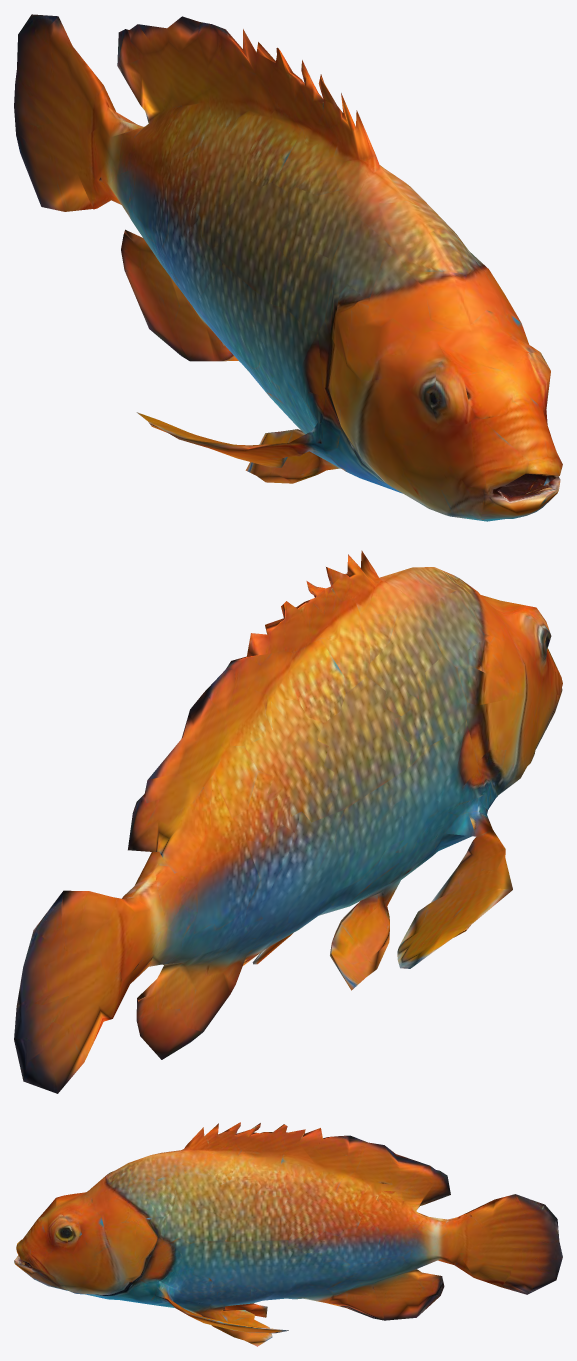
Rendered from fish_orange.glb.
3 views of the same model, one above another, from view 1: azimuth 30°, elevation 25°; view 2: azimuth 150°, elevation 25°; view 3: azimuth 270°, elevation 25° (orthographic). The views are drawn at different scales.
Parts seen in each view (by area): view 1: fish_orange; view 2: fish_orange; view 3: fish_orange.
Boxes of the visible parts, x1=… form: fish_orange: x1=14, y1=14, x2=562, y2=521; fish_orange: x1=14, y1=550, x2=562, y2=1093; fish_orange: x1=14, y1=1122, x2=562, y2=1346.
Bounding box in the file's own units: 0.3616 × 0.4232 × 0.9987.
1 material, 1 textured.
